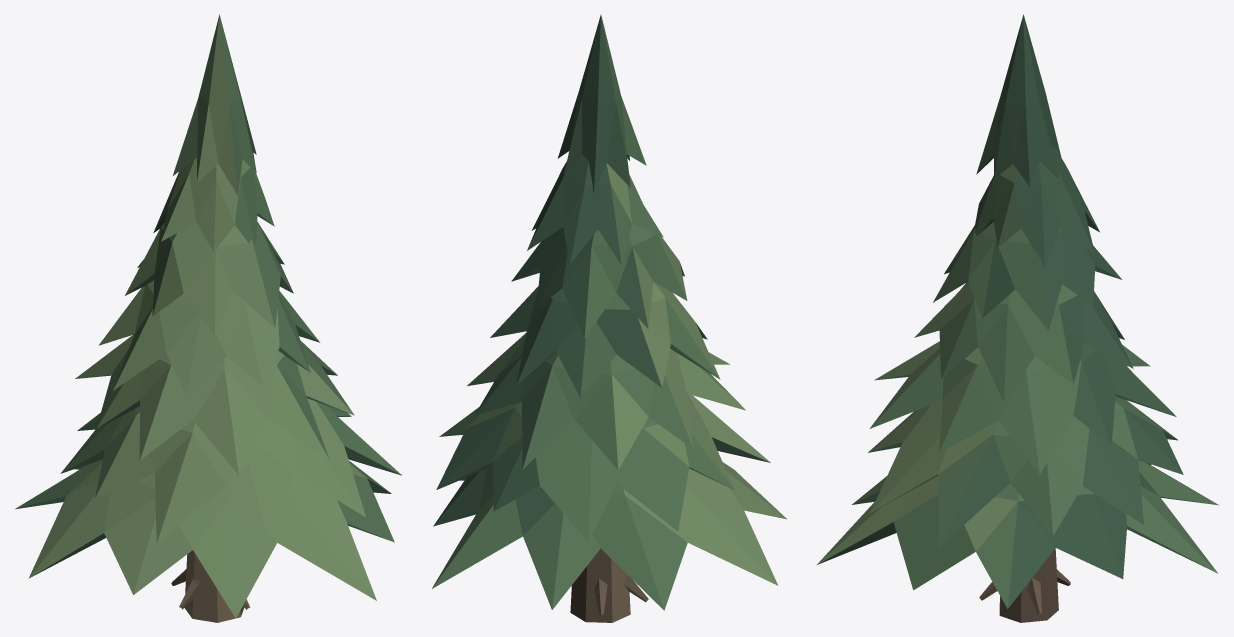
The model's file is tree_temperate_0.glb.
3 views of the same model, side by side, from view 1: azimuth 30°, elevation 25°; view 2: azimuth 150°, elevation 25°; view 3: azimuth 270°, elevation 25° (orthographic).
Visible parts, largest first — view 1: Body; view 2: Body; view 3: Body.
Boxes of the visible parts, x1,y1,x2,y2 form: Body: (15, 14, 401, 622); Body: (432, 15, 786, 622); Body: (817, 14, 1218, 622).
Bounding box in the file's own units: 4.41 × 7.2 × 4.41.
